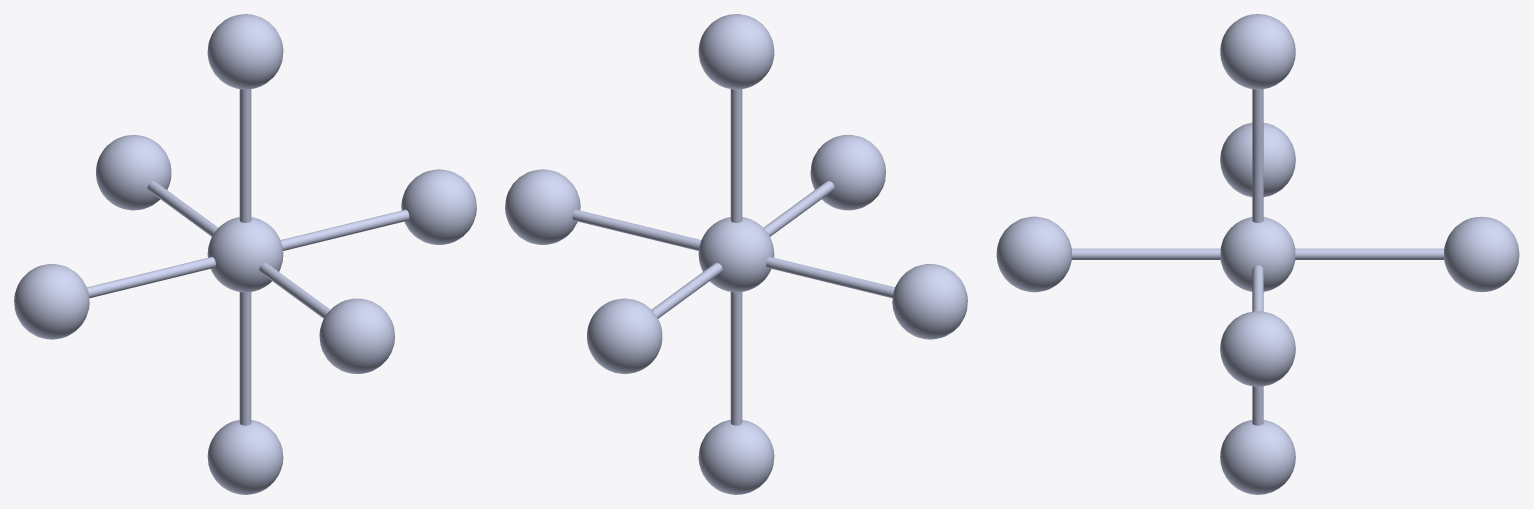
The model's file is Octahedral.obj.
3 renders of one model, left to right at view 1: azimuth 30°, elevation 25°; view 2: azimuth 150°, elevation 25°; view 3: azimuth 270°, elevation 25°, orthographic.
Parts seen in each view (by area): view 1: DirectConnectNode_54_DC_Shell, DirectConnectNode_40_DC_Shell, DirectConnectNode_90_DC_Shell, DirectConnectNode_60_DC_Shell, DirectConnectNode_16_DC_Shell, DirectConnectNode_2_DC_Shell, DirectConnectNode_33_DC_Shell, DirectConnectNode_75_DC_Shell, DirectConnectNode_23_DC_Shell, DirectConnectNode_67_DC_Shell, DirectConnectNode_47_DC_Shell, DirectConnectNode_83_DC_Shell (+1 smaller); view 2: DirectConnectNode_54_DC_Shell, DirectConnectNode_40_DC_Shell, DirectConnectNode_2_DC_Shell, DirectConnectNode_60_DC_Shell, DirectConnectNode_16_DC_Shell, DirectConnectNode_90_DC_Shell, DirectConnectNode_33_DC_Shell, DirectConnectNode_75_DC_Shell, DirectConnectNode_23_DC_Shell, DirectConnectNode_67_DC_Shell, DirectConnectNode_47_DC_Shell, DirectConnectNode_9_DC_Shell (+1 smaller); view 3: DirectConnectNode_16_DC_Shell, DirectConnectNode_54_DC_Shell, DirectConnectNode_90_DC_Shell, DirectConnectNode_2_DC_Shell, DirectConnectNode_60_DC_Shell, DirectConnectNode_33_DC_Shell, DirectConnectNode_40_DC_Shell, DirectConnectNode_9_DC_Shell, DirectConnectNode_83_DC_Shell, DirectConnectNode_75_DC_Shell.
Boxes of the visible parts, bbox=[...] form: DirectConnectNode_54_DC_Shell: bbox=[207, 14, 283, 89]; DirectConnectNode_40_DC_Shell: bbox=[14, 264, 89, 339]; DirectConnectNode_90_DC_Shell: bbox=[319, 298, 394, 373]; DirectConnectNode_60_DC_Shell: bbox=[207, 420, 283, 494]; DirectConnectNode_16_DC_Shell: bbox=[401, 169, 476, 244]; DirectConnectNode_2_DC_Shell: bbox=[96, 134, 171, 210]; DirectConnectNode_33_DC_Shell: bbox=[207, 217, 283, 292]; DirectConnectNode_75_DC_Shell: bbox=[239, 89, 251, 222]; DirectConnectNode_23_DC_Shell: bbox=[239, 292, 251, 425]; DirectConnectNode_67_DC_Shell: bbox=[280, 209, 409, 250]; DirectConnectNode_47_DC_Shell: bbox=[87, 257, 215, 298]; DirectConnectNode_83_DC_Shell: bbox=[259, 263, 330, 318]; DirectConnectNode_54_DC_Shell: bbox=[698, 14, 774, 89]; DirectConnectNode_40_DC_Shell: bbox=[892, 264, 967, 339]; DirectConnectNode_2_DC_Shell: bbox=[587, 298, 662, 374]; DirectConnectNode_60_DC_Shell: bbox=[698, 420, 774, 494]; DirectConnectNode_16_DC_Shell: bbox=[505, 169, 580, 244]; DirectConnectNode_90_DC_Shell: bbox=[810, 134, 885, 210]; DirectConnectNode_33_DC_Shell: bbox=[698, 217, 774, 292]; DirectConnectNode_75_DC_Shell: bbox=[730, 89, 742, 222]; DirectConnectNode_23_DC_Shell: bbox=[730, 292, 742, 425]; DirectConnectNode_67_DC_Shell: bbox=[572, 209, 701, 250]; DirectConnectNode_47_DC_Shell: bbox=[766, 257, 894, 298]; DirectConnectNode_9_DC_Shell: bbox=[651, 263, 722, 318]; DirectConnectNode_16_DC_Shell: bbox=[1220, 311, 1295, 386]; DirectConnectNode_54_DC_Shell: bbox=[1220, 14, 1295, 89]; DirectConnectNode_90_DC_Shell: bbox=[996, 216, 1071, 292]; DirectConnectNode_2_DC_Shell: bbox=[1444, 216, 1519, 292]; DirectConnectNode_60_DC_Shell: bbox=[1220, 420, 1295, 494]; DirectConnectNode_33_DC_Shell: bbox=[1220, 217, 1295, 291]; DirectConnectNode_40_DC_Shell: bbox=[1220, 123, 1295, 196]; DirectConnectNode_9_DC_Shell: bbox=[1295, 248, 1443, 259]; DirectConnectNode_83_DC_Shell: bbox=[1072, 248, 1220, 259]; DirectConnectNode_75_DC_Shell: bbox=[1252, 89, 1263, 222].
Bounding box in the file's own units: 13.8 × 13.8 × 13.8.
